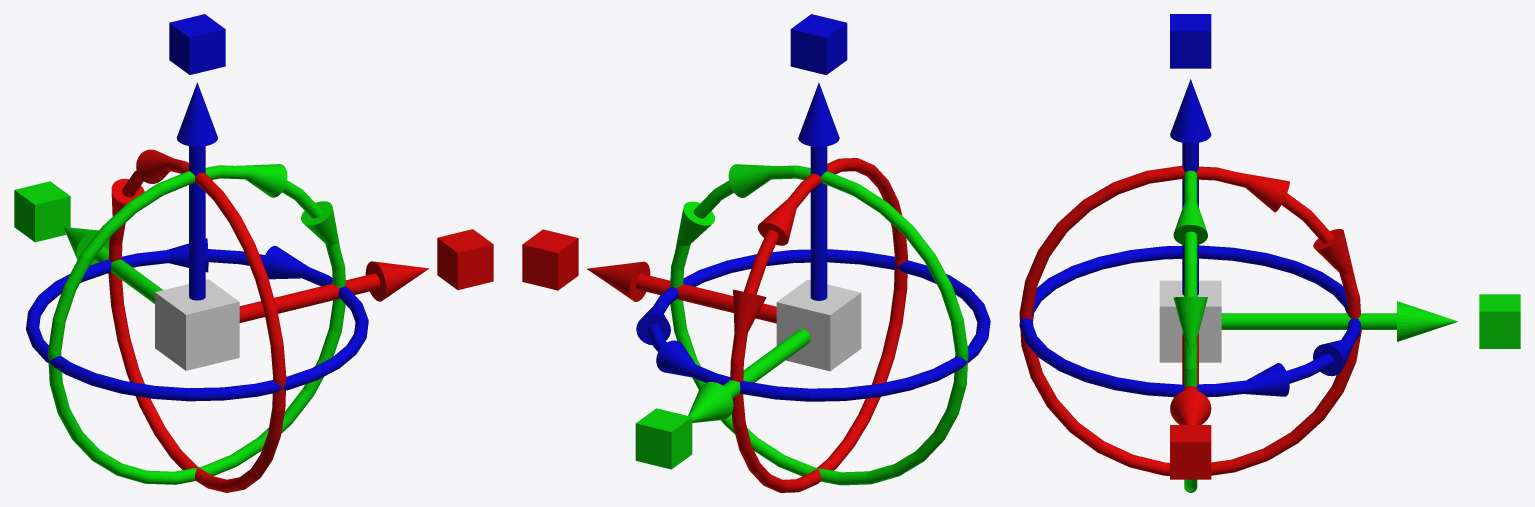
The model's file is Gizmos.fbx.
The picture shows the model from 3 angles, left to right: view 1: azimuth 30°, elevation 25°; view 2: azimuth 150°, elevation 25°; view 3: azimuth 270°, elevation 25°; orthographic projection.
Parts seen in each view (by area): view 1: Rotate, Scale, Translate; view 2: Rotate, Scale, Translate; view 3: Rotate, Scale, Translate.
Part boxes in pixels (<box>): Rotate: <box>26,149,368,492</box>; Scale: <box>14,14,493,370</box>; Translate: <box>63,82,429,322</box>; Rotate: <box>636,158,990,492</box>; Scale: <box>522,14,861,469</box>; Translate: <box>587,82,839,422</box>; Rotate: <box>1019,165,1361,492</box>; Scale: <box>1159,14,1520,479</box>; Translate: <box>1170,79,1457,424</box>.
Size of the model in its own units: 122 by 122 by 122.
